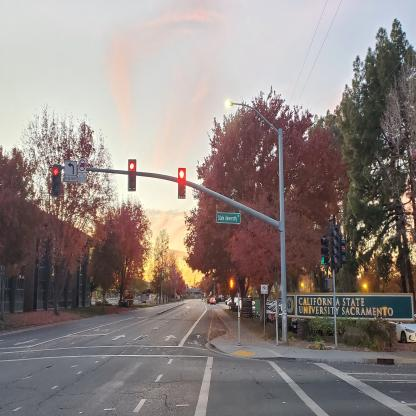left-red: (52, 165, 60, 197)
red: (128, 158, 136, 192), (179, 168, 185, 198)
